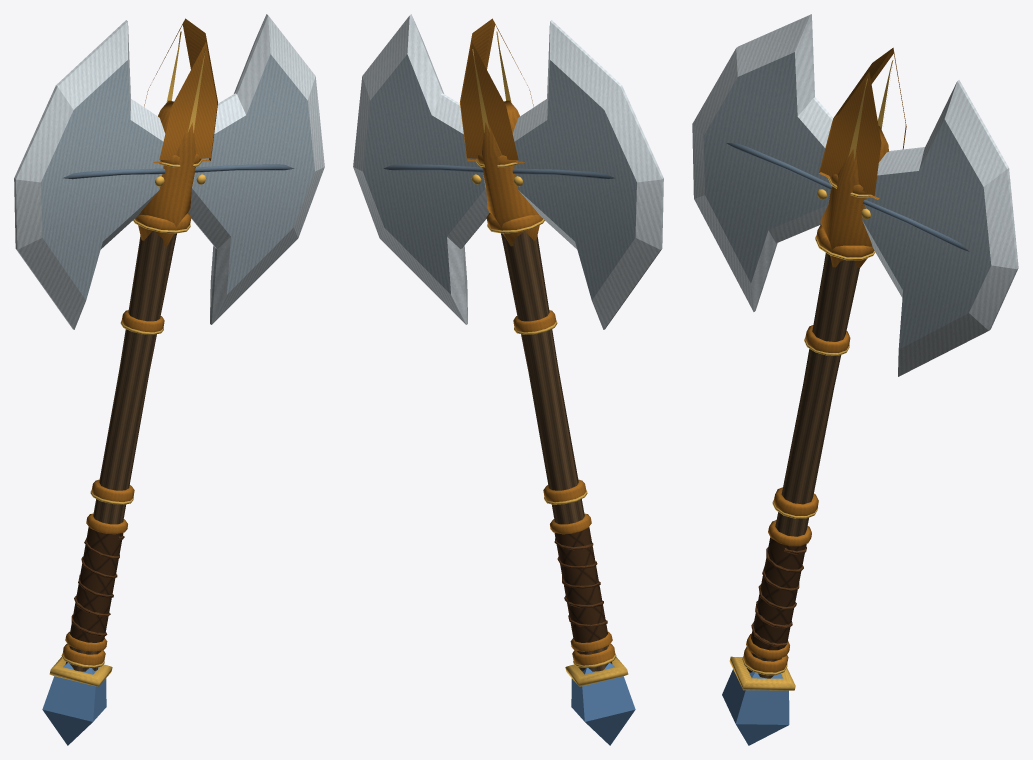
File: iron_knuckle_axe.glb
The picture shows the model from 3 angles, left to right: view 1: azimuth 30°, elevation 25°; view 2: azimuth 150°, elevation 25°; view 3: azimuth 330°, elevation 25°; orthographic projection. The views are drawn at different scales.
Visible parts, largest first — view 1: Iron Knuckle crescent blade face (×2), Iron Knuckle crescent blade broad bevel (×2), Long patterned axe shaft, Gold central head spike, Textured leather grip, Axe head square-sided gold socket, Axe faceted blue butt jewel, Axe shaft gold ferrule (×4), Iron Knuckle crescent blade cutting rim (×2), Axe forged strengthening rib (×2), Axe butt jewel gold bezel, Raised spiral leather binding; view 2: Iron Knuckle crescent blade face (×2), Iron Knuckle crescent blade broad bevel (×2), Long patterned axe shaft, Gold central head spike, Textured leather grip, Axe head square-sided gold socket, Axe faceted blue butt jewel, Axe shaft gold ferrule (×4), Iron Knuckle crescent blade cutting rim (×2), Axe forged strengthening rib (×2), Axe butt jewel gold bezel, Raised spiral leather binding; view 3: Iron Knuckle crescent blade face (×2), Iron Knuckle crescent blade broad bevel (×2), Long patterned axe shaft, Gold central head spike, Textured leather grip, Axe head square-sided gold socket, Axe faceted blue butt jewel, Axe shaft gold ferrule (×4), Axe forged strengthening rib (×2), Axe butt jewel gold bezel, Raised spiral leather binding, Iron Knuckle crescent blade cutting rim (+1 smaller).
Part boxes in pixels (bbox=[...]): Iron Knuckle crescent blade face (×2): bbox=[41, 54, 314, 300]; Iron Knuckle crescent blade broad bevel (×2): bbox=[16, 15, 324, 329]; Long patterned axe shaft: bbox=[65, 231, 176, 671]; Gold central head spike: bbox=[144, 18, 217, 163]; Textured leather grip: bbox=[70, 527, 123, 642]; Axe head square-sided gold socket: bbox=[136, 100, 195, 246]; Axe faceted blue butt jewel: bbox=[42, 662, 106, 745]; Axe shaft gold ferrule (×4): bbox=[62, 213, 191, 665]; Iron Knuckle crescent blade cutting rim (×2): bbox=[14, 14, 267, 329]; Axe forged strengthening rib (×2): bbox=[63, 164, 294, 179]; Axe butt jewel gold bezel: bbox=[49, 657, 112, 686]; Raised spiral leather binding: bbox=[71, 535, 124, 636]; Iron Knuckle crescent blade face (×2): bbox=[363, 54, 636, 300]; Iron Knuckle crescent blade broad bevel (×2): bbox=[353, 15, 661, 329]; Long patterned axe shaft: bbox=[501, 231, 612, 671]; Gold central head spike: bbox=[460, 18, 533, 163]; Textured leather grip: bbox=[554, 527, 607, 642]; Axe head square-sided gold socket: bbox=[482, 100, 541, 246]; Axe faceted blue butt jewel: bbox=[571, 662, 635, 745]; Axe shaft gold ferrule (×4): bbox=[486, 213, 615, 665]; Iron Knuckle crescent blade cutting rim (×2): bbox=[410, 14, 663, 329]; Axe forged strengthening rib (×2): bbox=[383, 164, 614, 179]; Axe butt jewel gold bezel: bbox=[565, 657, 628, 686]; Raised spiral leather binding: bbox=[554, 538, 607, 626]; Iron Knuckle crescent blade face (×2): bbox=[703, 52, 991, 349]; Iron Knuckle crescent blade broad bevel (×2): bbox=[692, 15, 1016, 376]; Long patterned axe shaft: bbox=[746, 253, 859, 678]; Gold central head spike: bbox=[819, 47, 906, 199]; Textured leather grip: bbox=[751, 537, 806, 650]; Axe head square-sided gold socket: bbox=[820, 126, 888, 267]; Axe faceted blue butt jewel: bbox=[722, 669, 789, 745]; Axe shaft gold ferrule (×4): bbox=[743, 224, 874, 672]; Axe forged strengthening rib (×2): bbox=[726, 143, 969, 251]; Axe butt jewel gold bezel: bbox=[729, 656, 795, 690]; Raised spiral leather binding: bbox=[751, 547, 806, 646]; Iron Knuckle crescent blade cutting rim: bbox=[888, 80, 1018, 330].
Bounding box in the file's own units: 33.02 × 72.59 × 6.99.
Materials: 9 (8 with a texture image).
